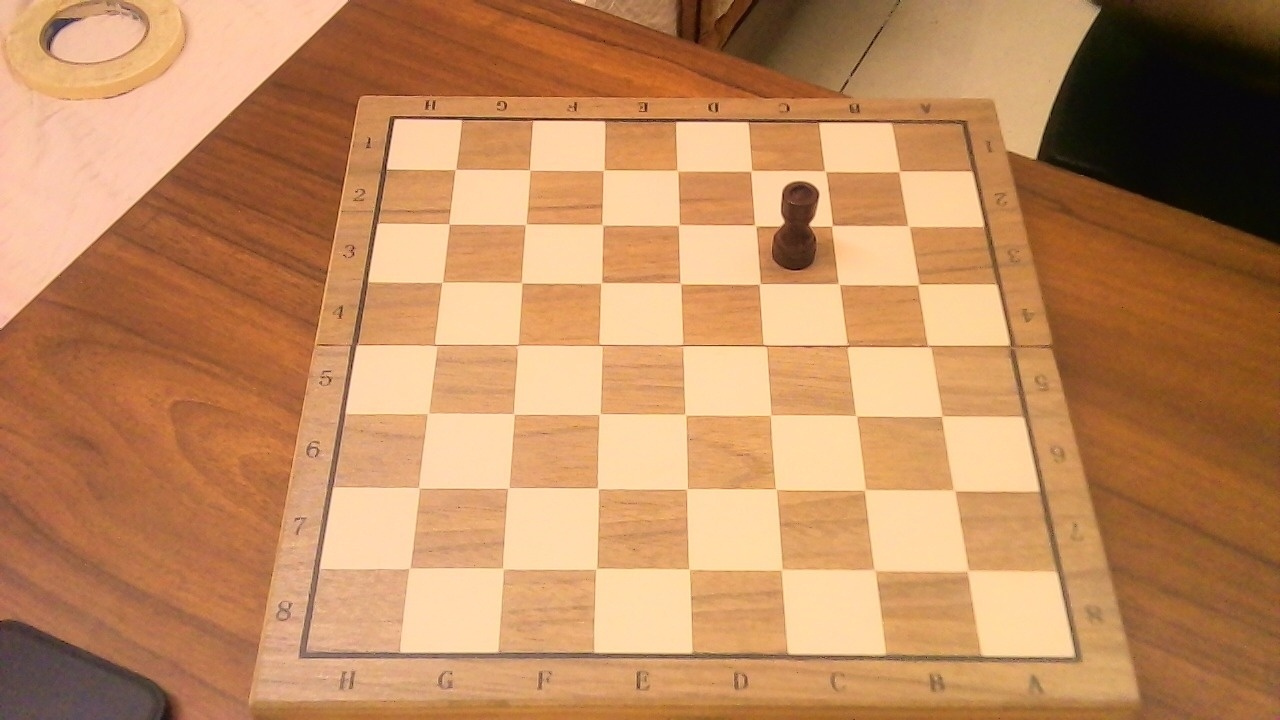r: (765, 169, 833, 275)
